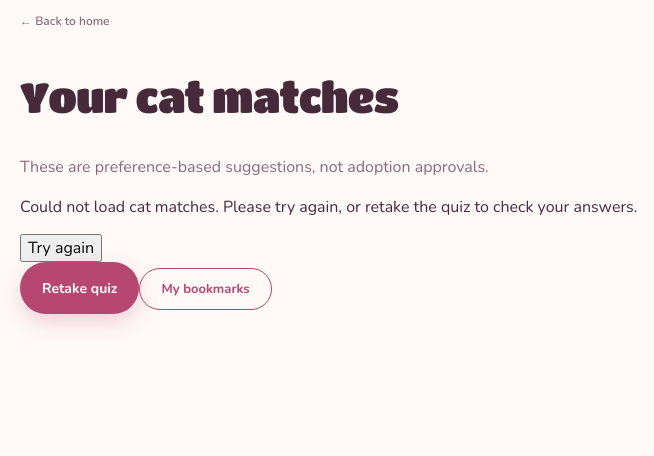
Test: recovers from service failure without losing quiz answers
Expected: the message shows "Could not load", x1=20 y1=196 x2=637 y2=218
Click the button "Try again". click: (61, 248)
box: x1=20 y1=234 x2=102 y2=262
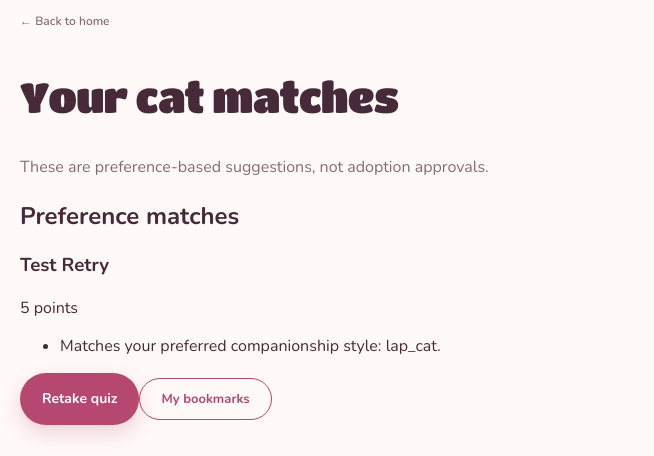
Now the heading "Test Retry" is shown, box x1=20 y1=252 x2=109 y2=278
